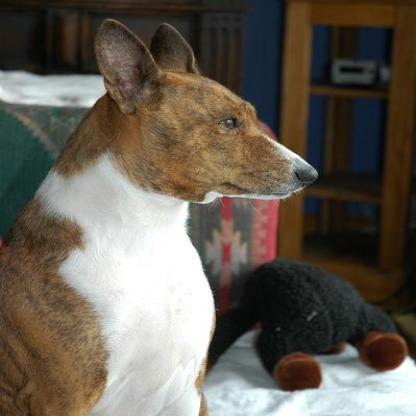basenji: (0, 18, 319, 414)
